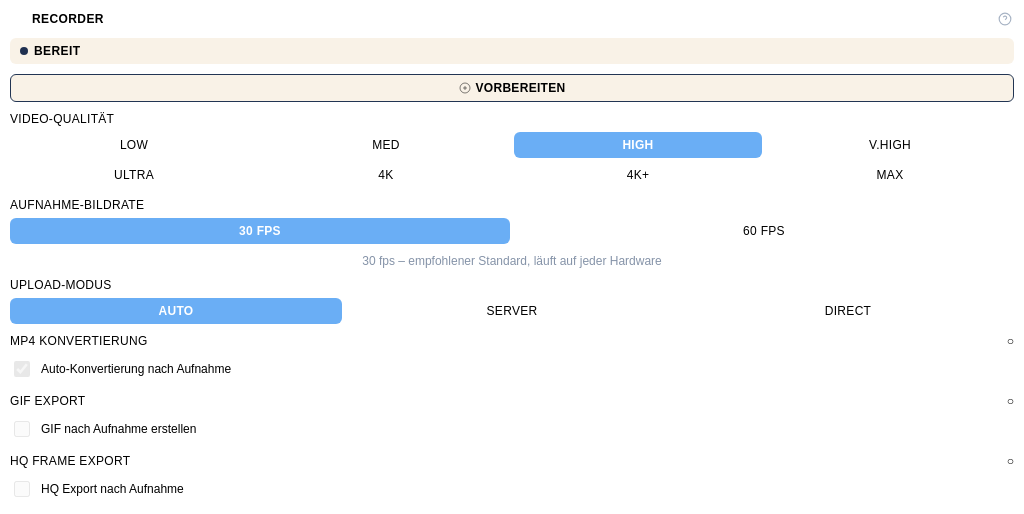
Test: RecorderPanel – Status und Steuerknöpfe › ein zweiter Klick während der Vorbereitung wird ignoriert
Click the button with class "btn-prepare": (512, 88) top-left (10, 74), bottom-right (1014, 102)
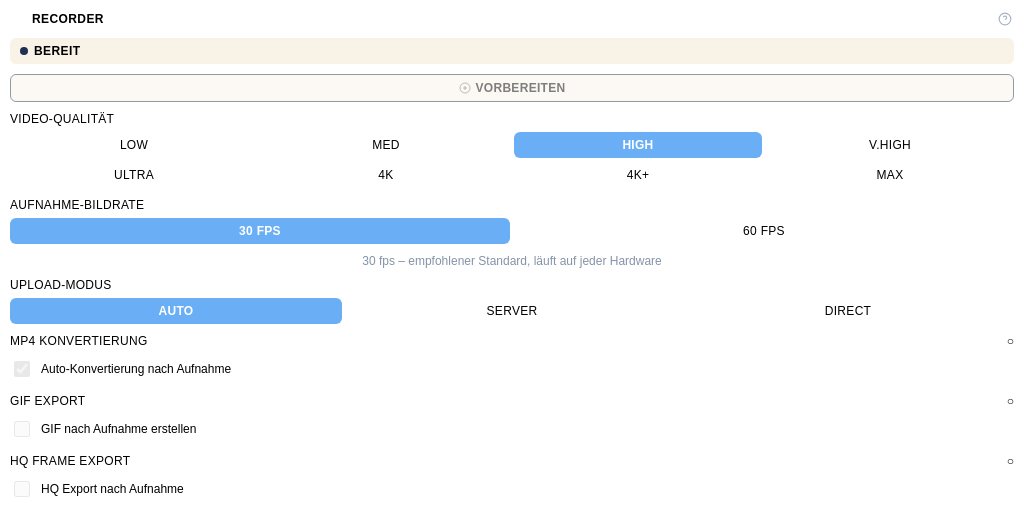
expect the button with class "btn-prepare" is disabled: met
Click the button with class "btn-prepare": (512, 88) top-left (10, 74), bottom-right (1014, 102)
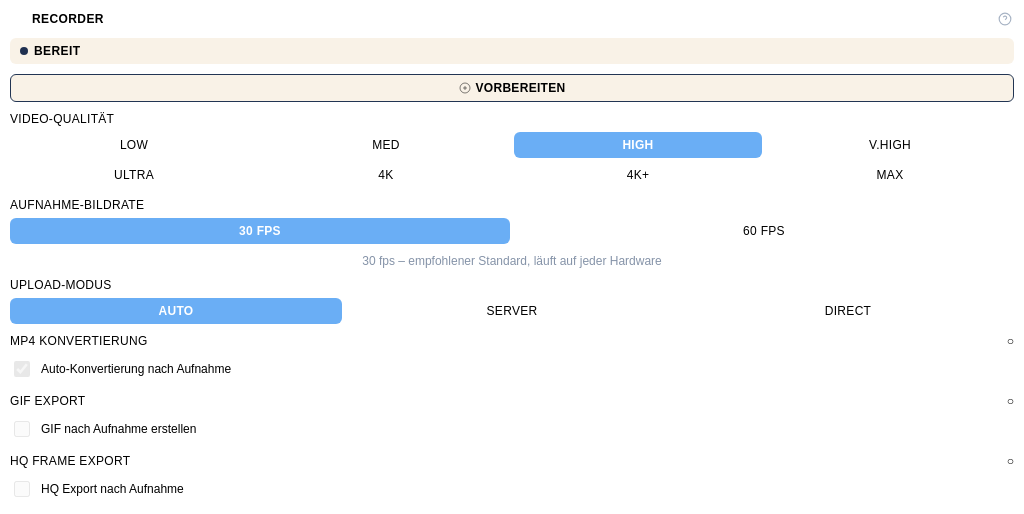
expect the button with class "btn-prepare" is enabled: met, box top-left (10, 74), bottom-right (1014, 102)
